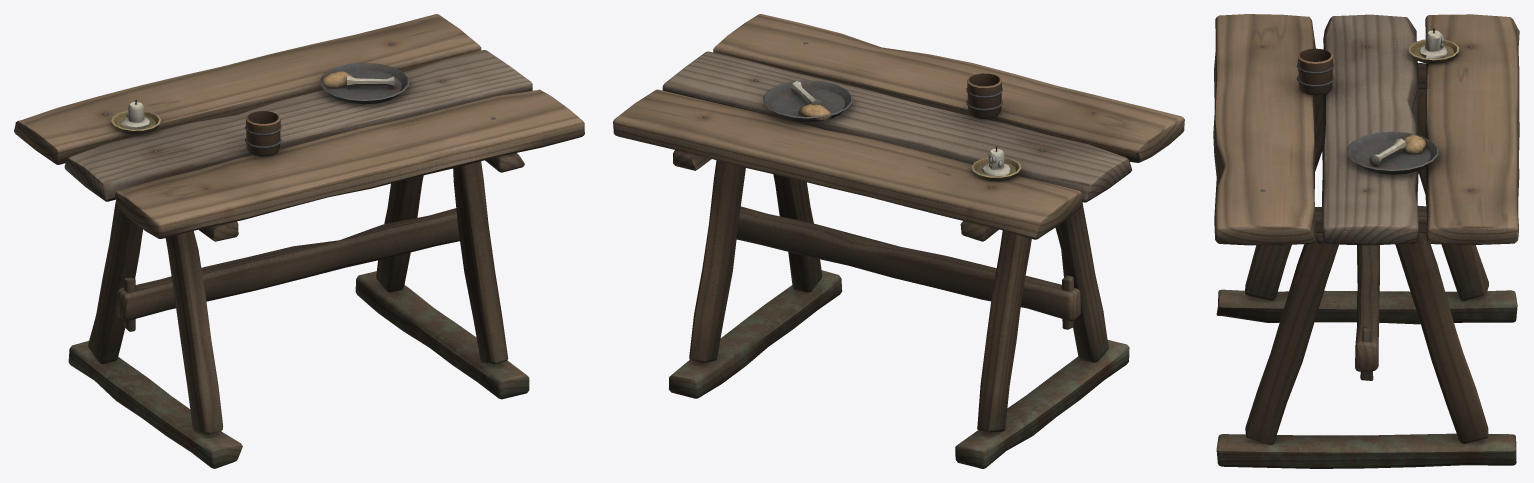
The model's file is table.glb.
3 views of the same model, side by side, from view 1: azimuth 30°, elevation 25°; view 2: azimuth 150°, elevation 25°; view 3: azimuth 270°, elevation 25° (orthographic). The views are drawn at different scales.
Visible parts, largest first — view 1: table; view 2: table; view 3: table.
Part boxes in pixels (x1,y1,x2,y2): table: [14, 14, 584, 468]; table: [613, 14, 1184, 468]; table: [1213, 14, 1519, 468].
Bounding box in the file's own units: 0.9841 × 0.6536 × 0.5956.
Materials: 1 (1 with a texture image).
